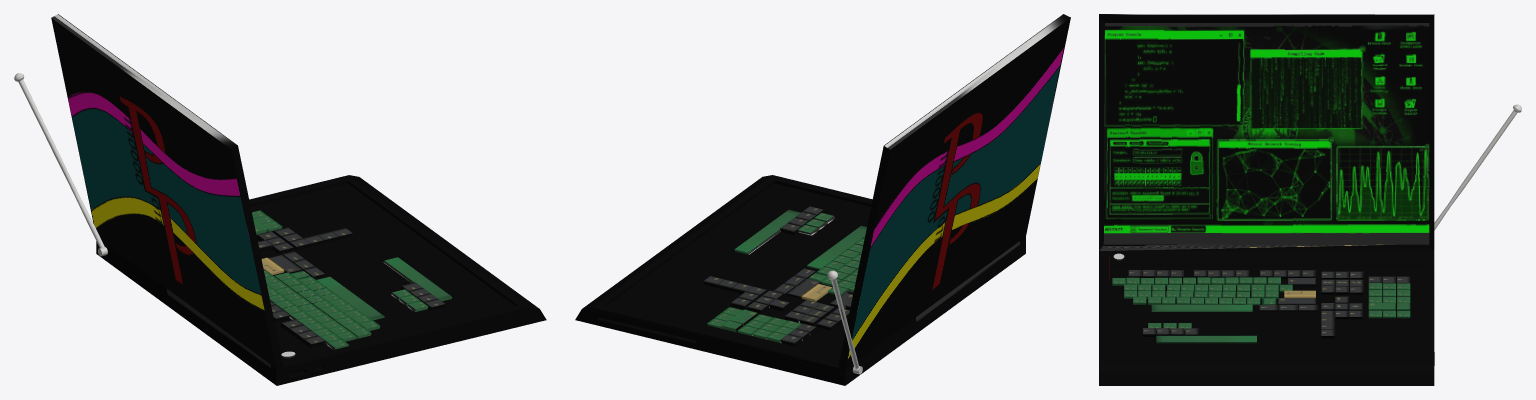
Rendered from hacker_laptop.glb.
3 renders of one model, left to right at view 1: azimuth 30°, elevation 25°; view 2: azimuth 150°, elevation 25°; view 3: azimuth 270°, elevation 25°, orthographic. The views are drawn at different scales.
Parts seen in each view (by area): view 1: Laptop; view 2: Laptop; view 3: Laptop.
Boxes of the visible parts, box(x1,y1,x2,y2) form: Laptop: box(14, 14, 546, 385); Laptop: box(575, 14, 1070, 385); Laptop: box(1099, 14, 1521, 385).
Size of the model in its own units: 2302 by 1741 by 2882.
Materials: 1 (1 with a texture image).
